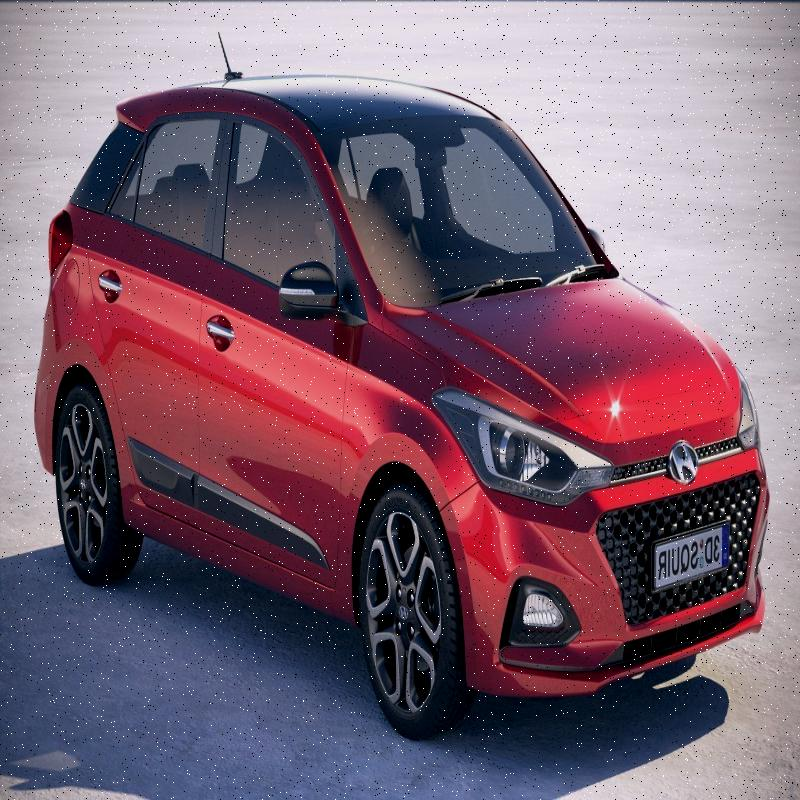car: (33, 69, 783, 740)
